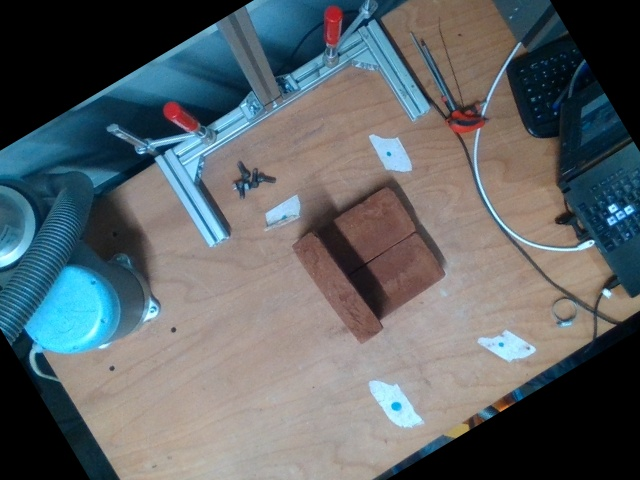brick-side: (290, 230, 381, 340)
